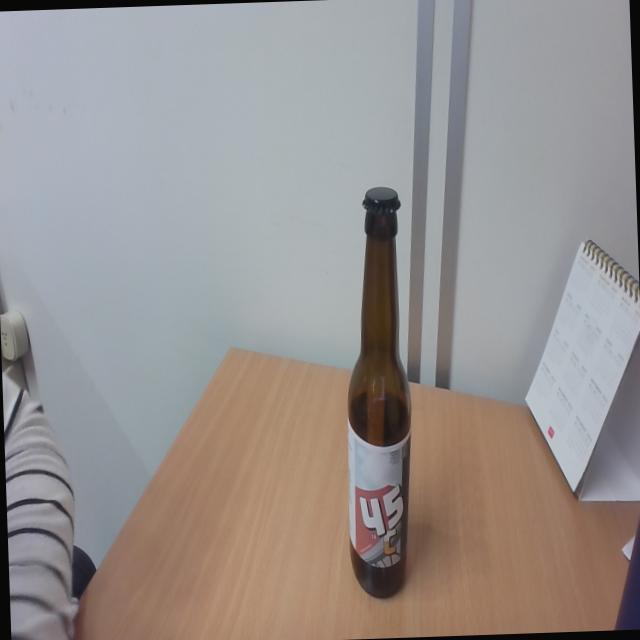Bottle: (336, 184, 416, 602)
Cap: (358, 184, 403, 217)
Label: (346, 428, 414, 570)
